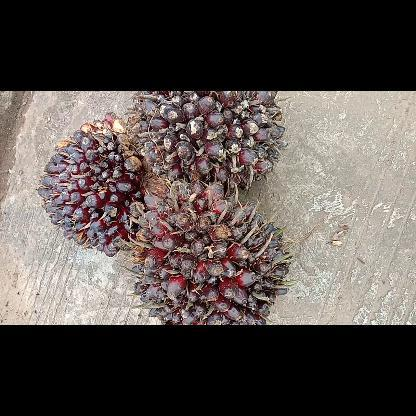TBS mentah: (129, 180, 293, 324), (35, 108, 169, 258), (126, 90, 284, 194)
